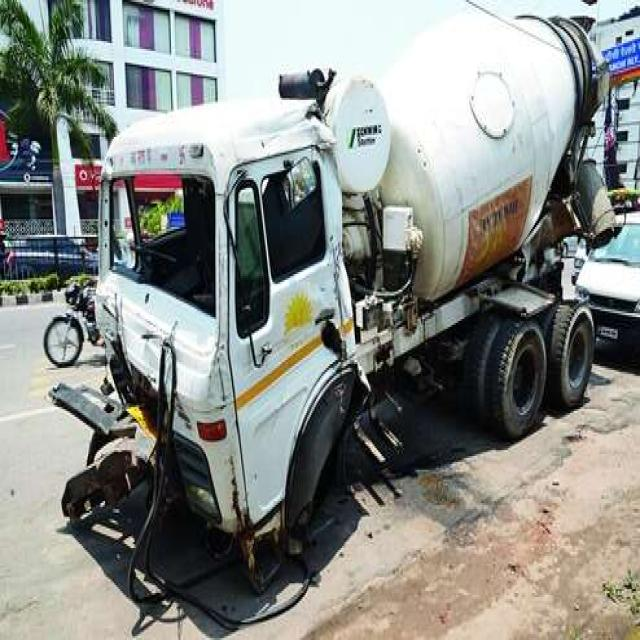accident: (58, 13, 615, 579)
